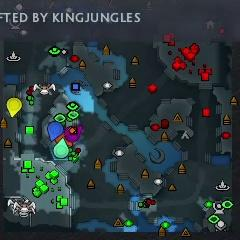p1: (48, 121, 64, 142)
p2: (54, 139, 70, 157)
p3: (65, 125, 83, 142)
p4: (7, 98, 23, 119)
p5: (55, 132, 74, 147)
